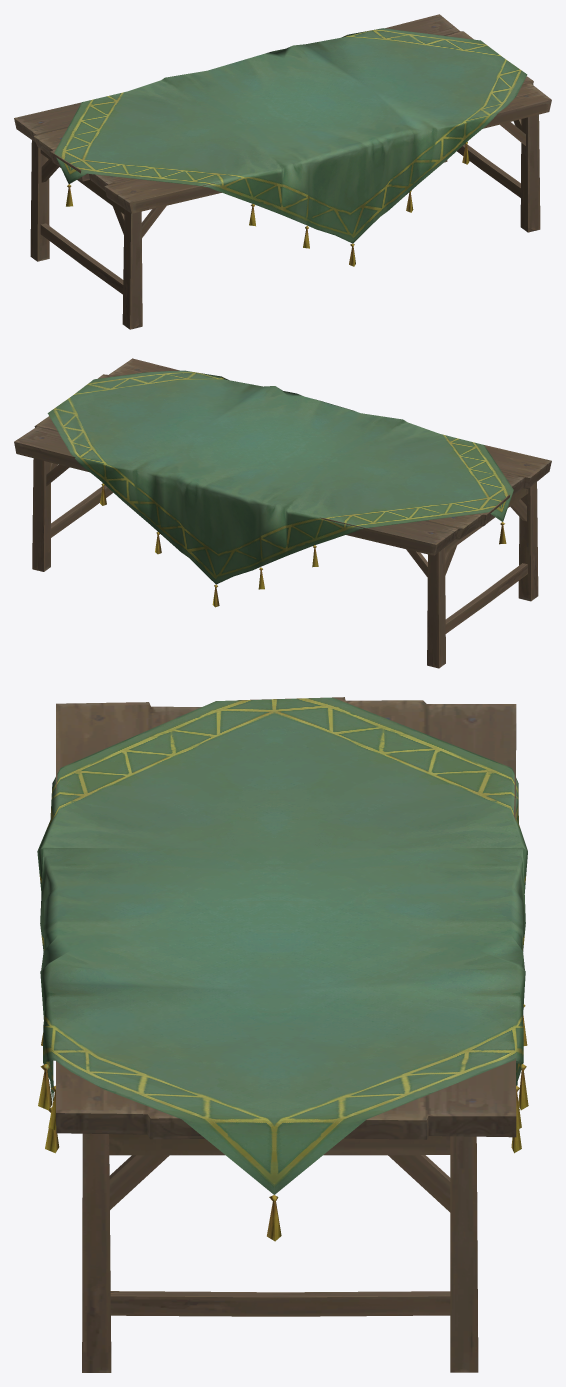
Rendered from Homeworld_Interior_Md_Table_Table_22_Vo.fbx.
3 views of the same model, one above another, from view 1: azimuth 30°, elevation 25°; view 2: azimuth 150°, elevation 25°; view 3: azimuth 270°, elevation 25° (orthographic). The views are drawn at different scales.
Parts seen in each view (by area): view 1: Indoor_MdProps_Tablecloth01_Lod0, Indoor_MdProps_AngelShare01_Table02_Vo; view 2: Indoor_MdProps_Tablecloth01_Lod0, Indoor_MdProps_AngelShare01_Table02_Vo; view 3: Indoor_MdProps_Tablecloth01_Lod0, Indoor_MdProps_AngelShare01_Table02_Vo.
Part boxes in pixels (x1,y1,x2,y2): Indoor_MdProps_Tablecloth01_Lod0: (54, 28, 527, 266); Indoor_MdProps_AngelShare01_Table02_Vo: (14, 14, 551, 329); Indoor_MdProps_Tablecloth01_Lod0: (47, 370, 513, 607); Indoor_MdProps_AngelShare01_Table02_Vo: (14, 358, 551, 668); Indoor_MdProps_Tablecloth01_Lod0: (37, 697, 528, 1241); Indoor_MdProps_AngelShare01_Table02_Vo: (56, 697, 516, 1372).
Bounding box in the file's own units: 2.73 × 0.8225 × 1.32.
